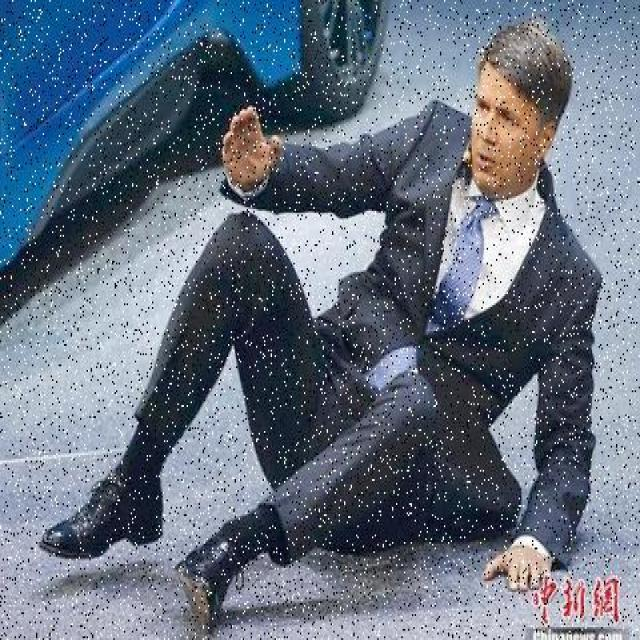fall: (52, 30, 592, 614)
